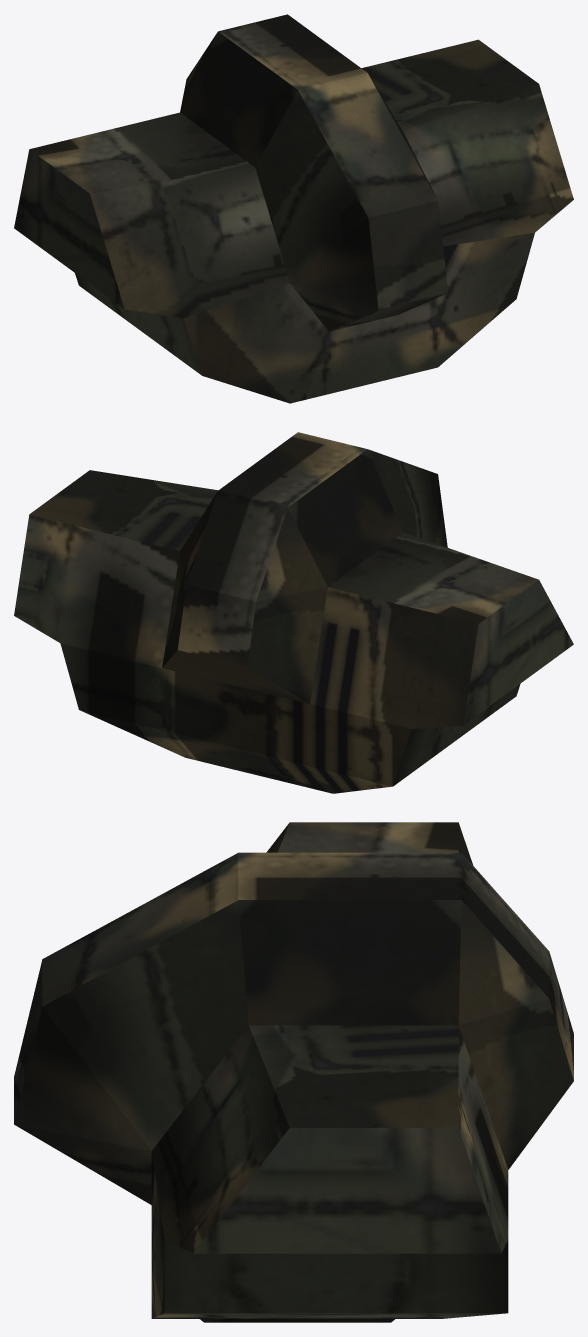
The model's file is Mech03_Body.FBX.
3 renders of one model, top to bottom at view 1: azimuth 30°, elevation 25°; view 2: azimuth 150°, elevation 25°; view 3: azimuth 270°, elevation 25°, orthographic. The views are drawn at different scales.
Visible parts, largest first — view 1: Body; view 2: Body; view 3: Body.
Part boxes in pixels (left/top/right/bottom): Body: left=14, top=14, right=573, bottom=403; Body: left=14, top=432, right=573, bottom=793; Body: left=14, top=822, right=573, bottom=1322.
Bounding box in the file's own units: 1134 × 717 × 878.
